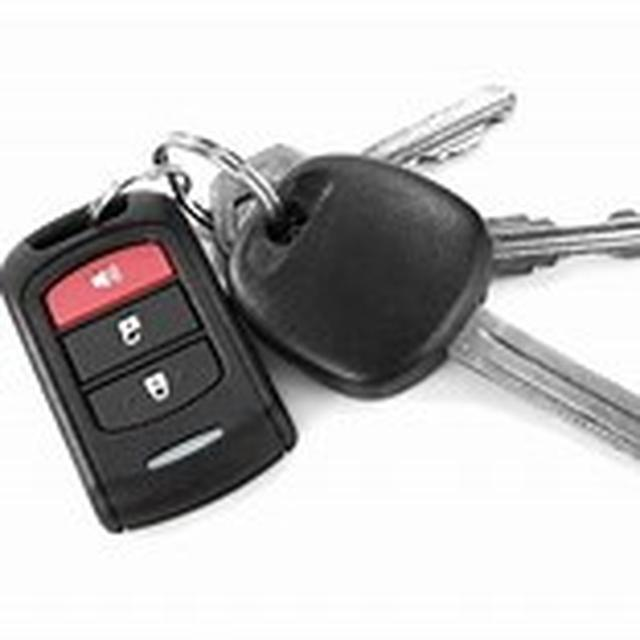key: (0, 47, 640, 572)
